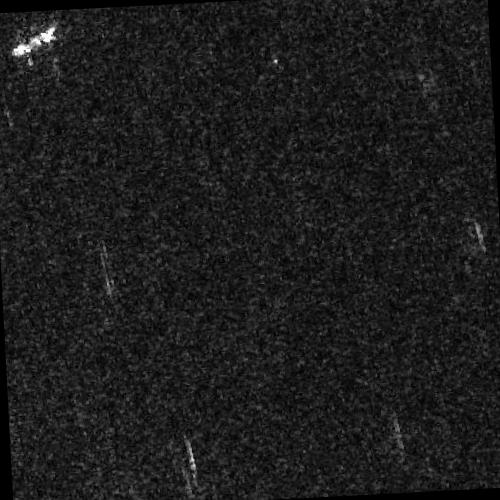ship: (10, 23, 56, 58)
